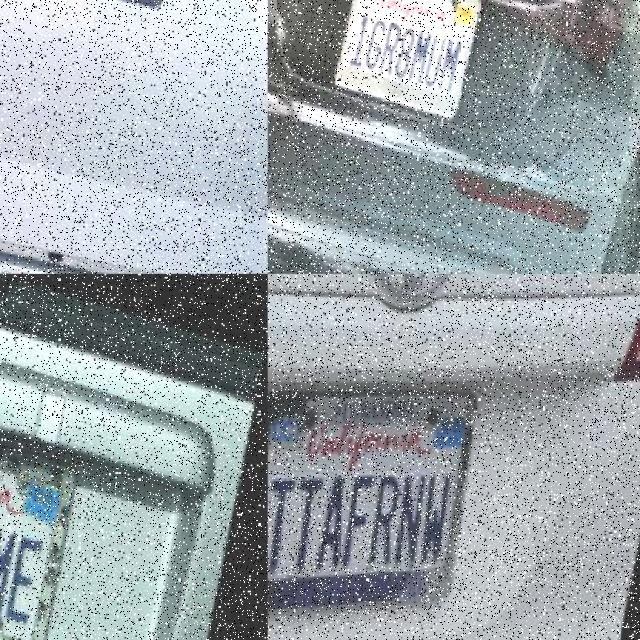licenseplate: (268, 384, 472, 608), (0, 387, 141, 640), (328, 0, 477, 115)
